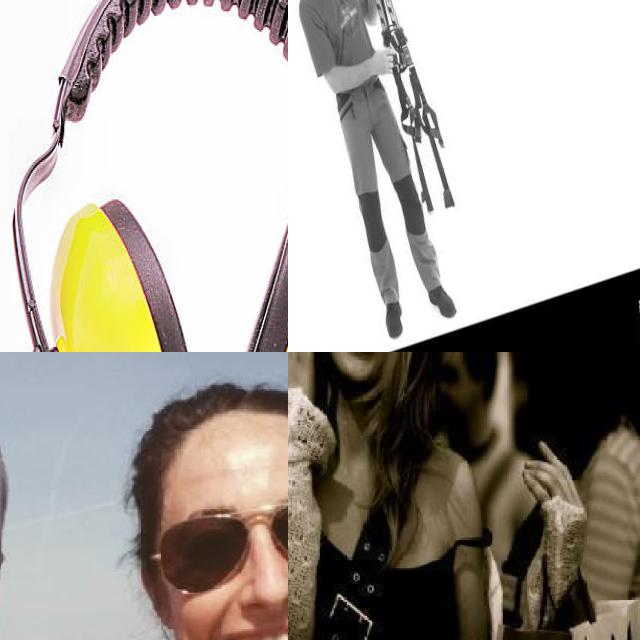Ear-protection: (4, 0, 288, 352)
Harness: (376, 0, 456, 212)
glasses: (155, 484, 288, 589)
hand_noglove: (510, 434, 599, 533)
head_helmet: (0, 373, 114, 640)
head_nohelmet: (156, 382, 288, 468)
person: (288, 352, 602, 640)
